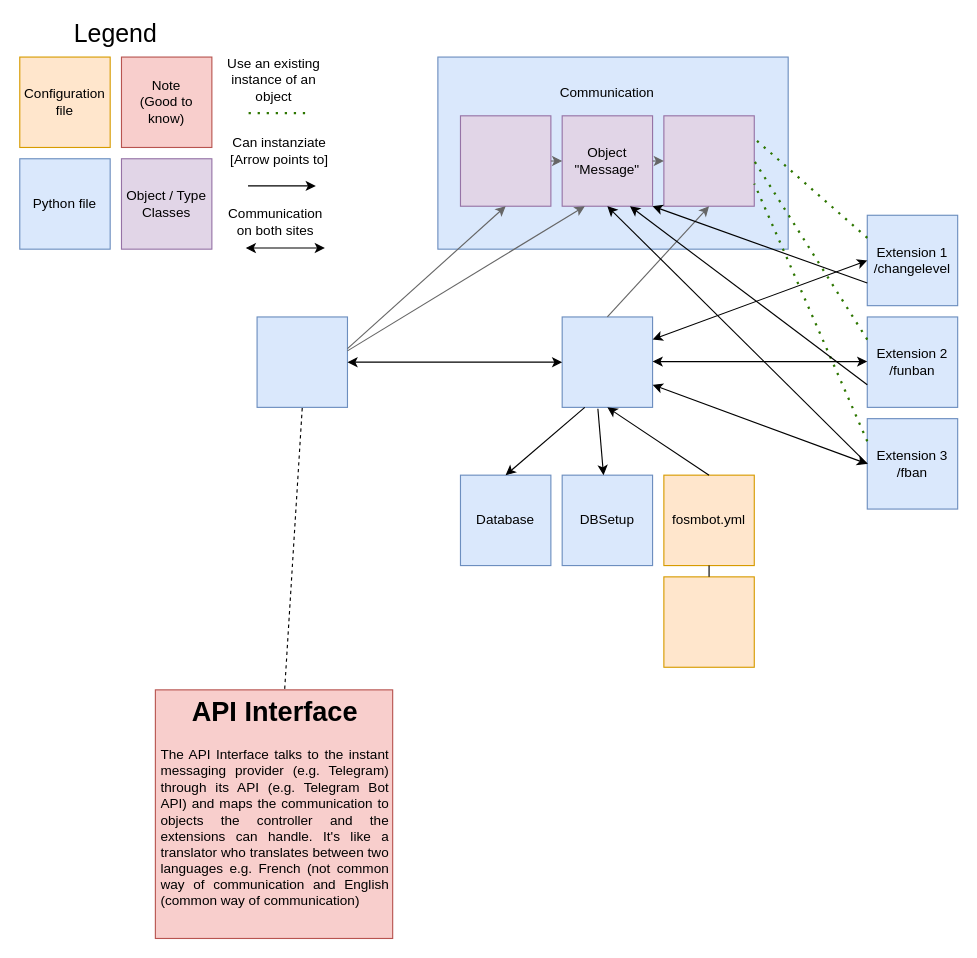
Some shapes in this 977 by 958 pixel diagram are drawn without their labels. Here are the shapes that lost their labels. From the top down, the box of each, then its label:
(459, 115, 551, 206): Object "User"
(663, 115, 754, 206): Object "Activity"
(256, 316, 347, 407): API Interface e.g. for Telegram API
(561, 316, 653, 407): Controller
(663, 576, 754, 667): botowner.txt
